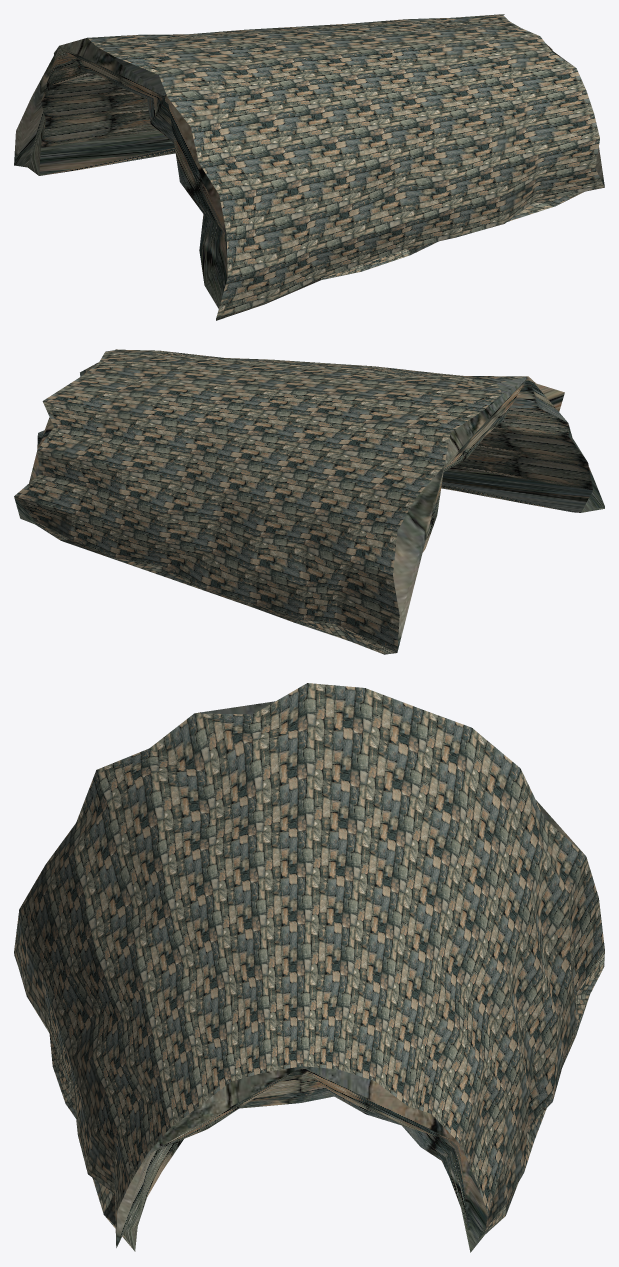
File: mycave.fbx
3 renders of one model, top to bottom at view 1: azimuth 30°, elevation 25°; view 2: azimuth 150°, elevation 25°; view 3: azimuth 270°, elevation 25°, orthographic. The views are drawn at different scales.
Parts seen in each view (by area): view 1: Cylinder; view 2: Cylinder; view 3: Cylinder.
Boxes of the visible parts, box(x1,y1,x2,y2) form: Cylinder: box(14, 14, 604, 320); Cylinder: box(14, 349, 604, 654); Cylinder: box(14, 683, 604, 1252).
Size of the model in its own units: 8.66 by 3.7 by 7.21.
